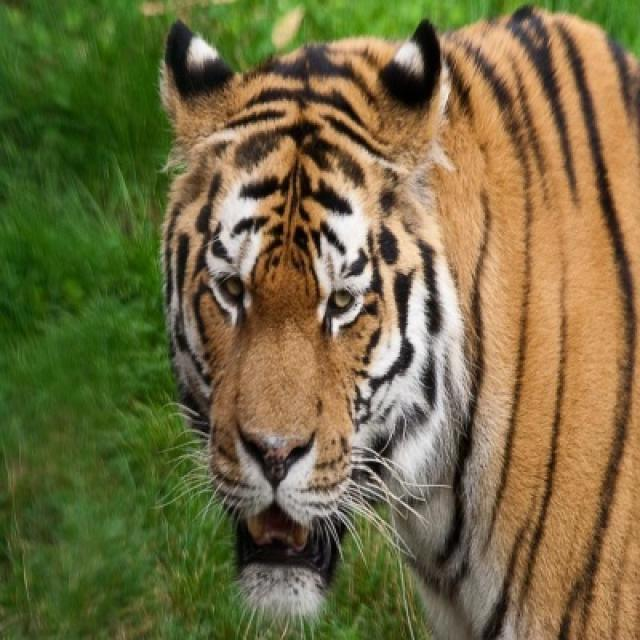Tiger: (157, 5, 638, 638)
